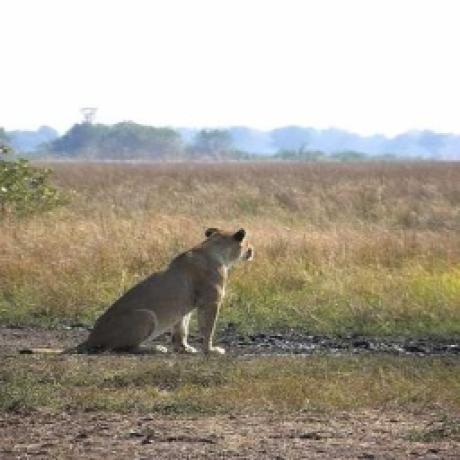Lion: (18, 227, 258, 359)
